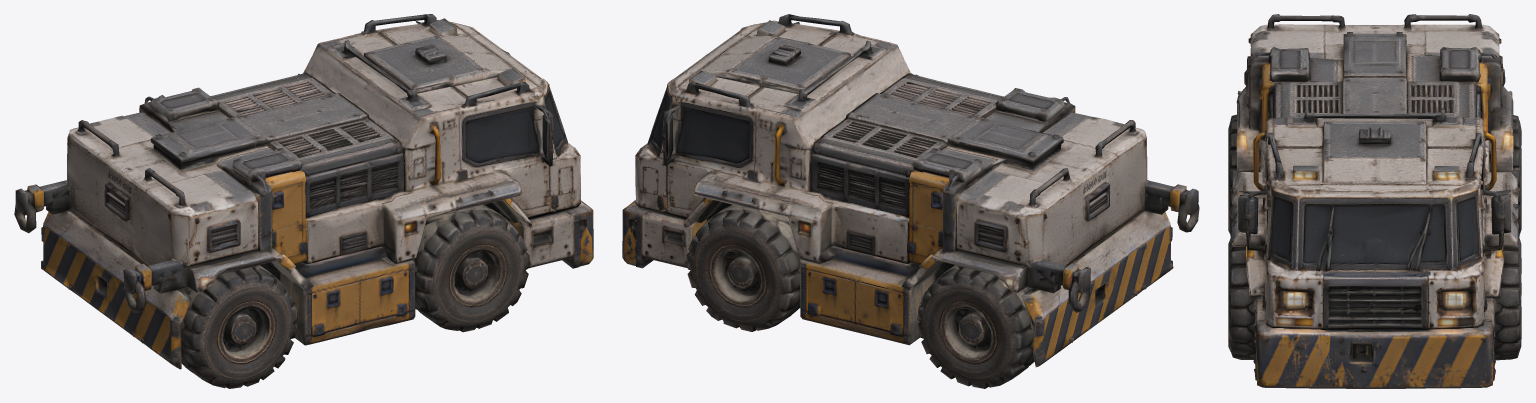
The model's file is PROP-VEH-TUG.glb.
3 views of the same model, side by side, from view 1: azimuth 30°, elevation 25°; view 2: azimuth 150°, elevation 25°; view 3: azimuth 270°, elevation 25° (orthographic). The views are drawn at different scales.
Parts seen in each view (by area): view 1: tripo_node_561b30a3-8648-4ea8-84ef-7091de2d68a1; view 2: tripo_node_561b30a3-8648-4ea8-84ef-7091de2d68a1; view 3: tripo_node_561b30a3-8648-4ea8-84ef-7091de2d68a1.
Part boxes in pixels (x1,y1,x2,y2): tripo_node_561b30a3-8648-4ea8-84ef-7091de2d68a1: (14, 14, 593, 388); tripo_node_561b30a3-8648-4ea8-84ef-7091de2d68a1: (622, 14, 1199, 388); tripo_node_561b30a3-8648-4ea8-84ef-7091de2d68a1: (1228, 14, 1521, 388).
Bounding box in the file's own units: 1 × 0.4603 × 0.5227.
1 material, 1 textured.
